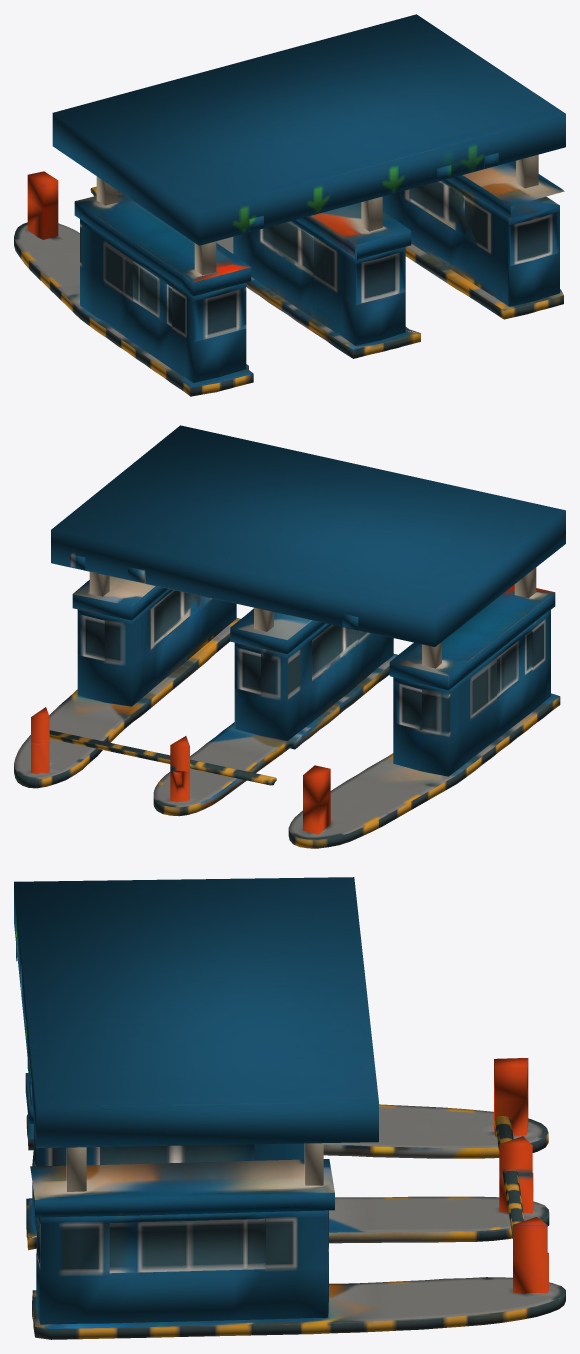
File: gerbang_tiket.glb
3 views of the same model, one above another, from view 1: azimuth 30°, elevation 25°; view 2: azimuth 150°, elevation 25°; view 3: azimuth 270°, elevation 25° (orthographic). The views are drawn at different scales.
Parts seen in each view (by area): view 1: tripo_node_00b2dab5; view 2: tripo_node_00b2dab5; view 3: tripo_node_00b2dab5.
Boxes of the visible parts, x1,y1,x2,y2 form: tripo_node_00b2dab5: [14, 14, 565, 396]; tripo_node_00b2dab5: [14, 425, 565, 848]; tripo_node_00b2dab5: [14, 877, 565, 1339].
Bounding box in the file's own units: 88.21 × 41.43 × 89.27.
Materials: 1 (1 with a texture image).
